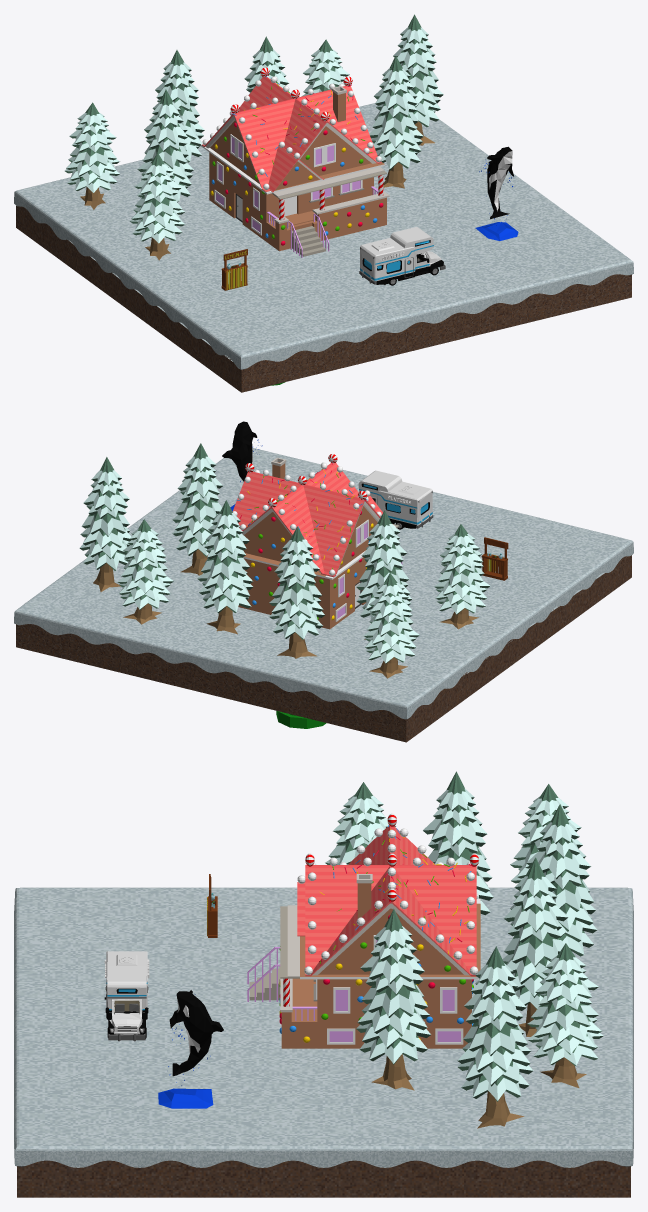
The picture shows the model from 3 angles, top to bottom: view 1: azimuth 30°, elevation 25°; view 2: azimuth 150°, elevation 25°; view 3: azimuth 270°, elevation 25°; orthographic projection. The views are drawn at different scales.
Visible parts, largest first — view 1: Cube.003, Cube.1203, VEHICLES_CAMPER, ANIMAL_ORCA, OBJRANDOM_LEMONADE_STAND; view 2: Cube.003, Cube.1203, VEHICLES_CAMPER, ANIMAL_ORCA, OBJRANDOM_LEMONADE_STAND, UNDERGROUND_PIPES; view 3: Cube.003, Cube.1203, VEHICLES_CAMPER, ANIMAL_ORCA.
Boxes of the visible parts, <box> form: Cube.003: <box>14,14,633,392</box>; Cube.1203: <box>200,67,389,257</box>; VEHICLES_CAMPER: <box>359,227,445,285</box>; ANIMAL_ORCA: <box>475,146,518,240</box>; OBJRANDOM_LEMONADE_STAND: <box>221,249,247,290</box>; Cube.003: <box>14,443,633,742</box>; Cube.1203: <box>232,454,402,629</box>; VEHICLES_CAMPER: <box>358,470,433,529</box>; ANIMAL_ORCA: <box>222,421,262,511</box>; OBJRANDOM_LEMONADE_STAND: <box>481,537,508,580</box>; UNDERGROUND_PIPES: <box>276,711,326,728</box>; Cube.003: <box>14,771,633,1197</box>; Cube.1203: <box>247,813,480,1048</box>; VEHICLES_CAMPER: <box>104,951,149,1041</box>; ANIMAL_ORCA: <box>158,990,223,1108</box>.
Bounding box in the file's own units: 4040 × 2275 × 4040.
41 materials, 4 textured.
